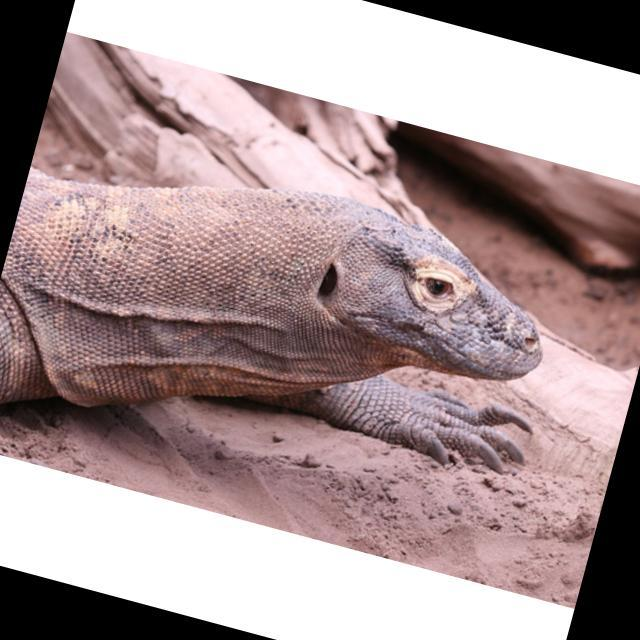KomodoDragon: (0, 110, 585, 585)
